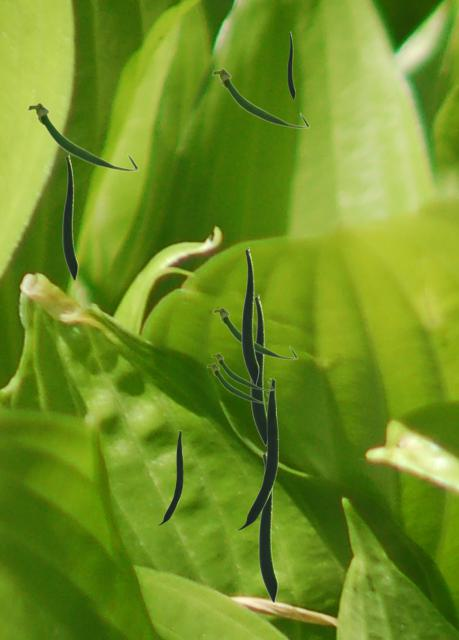french_bean: (26, 101, 138, 171), (236, 378, 277, 529), (211, 67, 309, 128), (212, 306, 297, 359), (258, 451, 277, 602), (206, 362, 267, 403), (250, 294, 266, 445), (211, 352, 273, 390), (241, 247, 258, 384), (158, 430, 182, 524), (62, 154, 77, 280), (287, 31, 294, 99)
